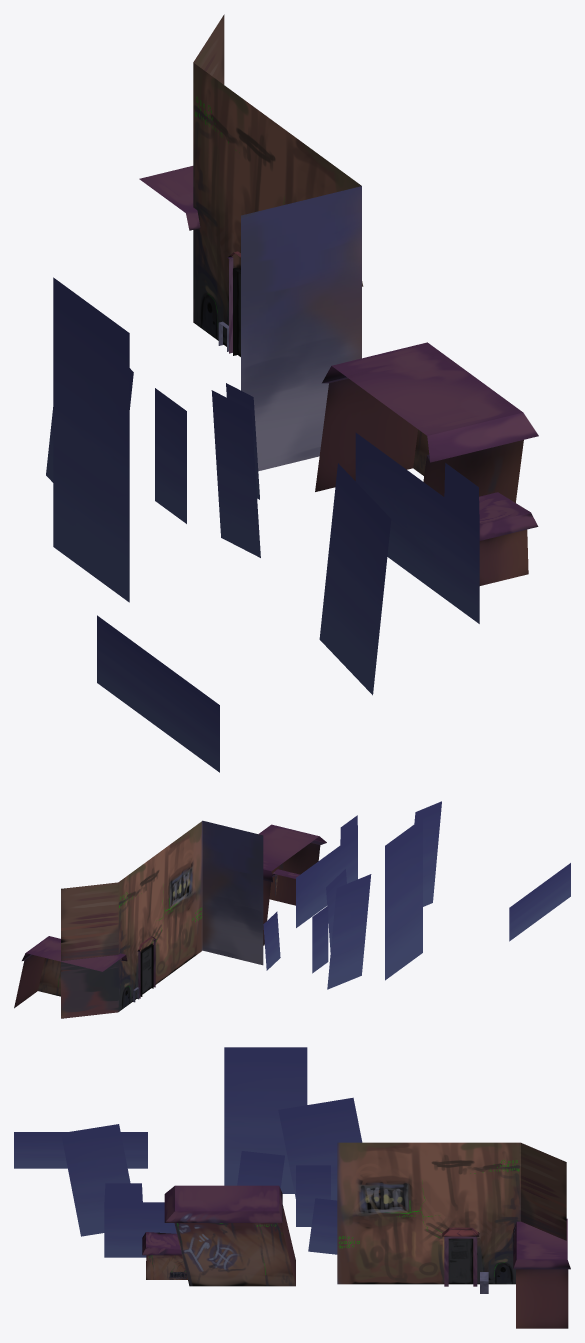
Rendered from buildings.fbx.
3 renders of one model, top to bottom at view 1: azimuth 30°, elevation 25°; view 2: azimuth 150°, elevation 25°; view 3: azimuth 270°, elevation 25°, orthographic. The views are drawn at different scales.
Parts seen in each view (by area): view 1: Cube; view 2: Cube; view 3: Cube.
Boxes of the visible parts, box(x1,y1,x2,y2) form: Cube: box(46, 14, 538, 772); Cube: box(14, 801, 570, 1018); Cube: box(14, 1047, 570, 1328).
Size of the model in its own units: 15216 by 7057 by 22310.
